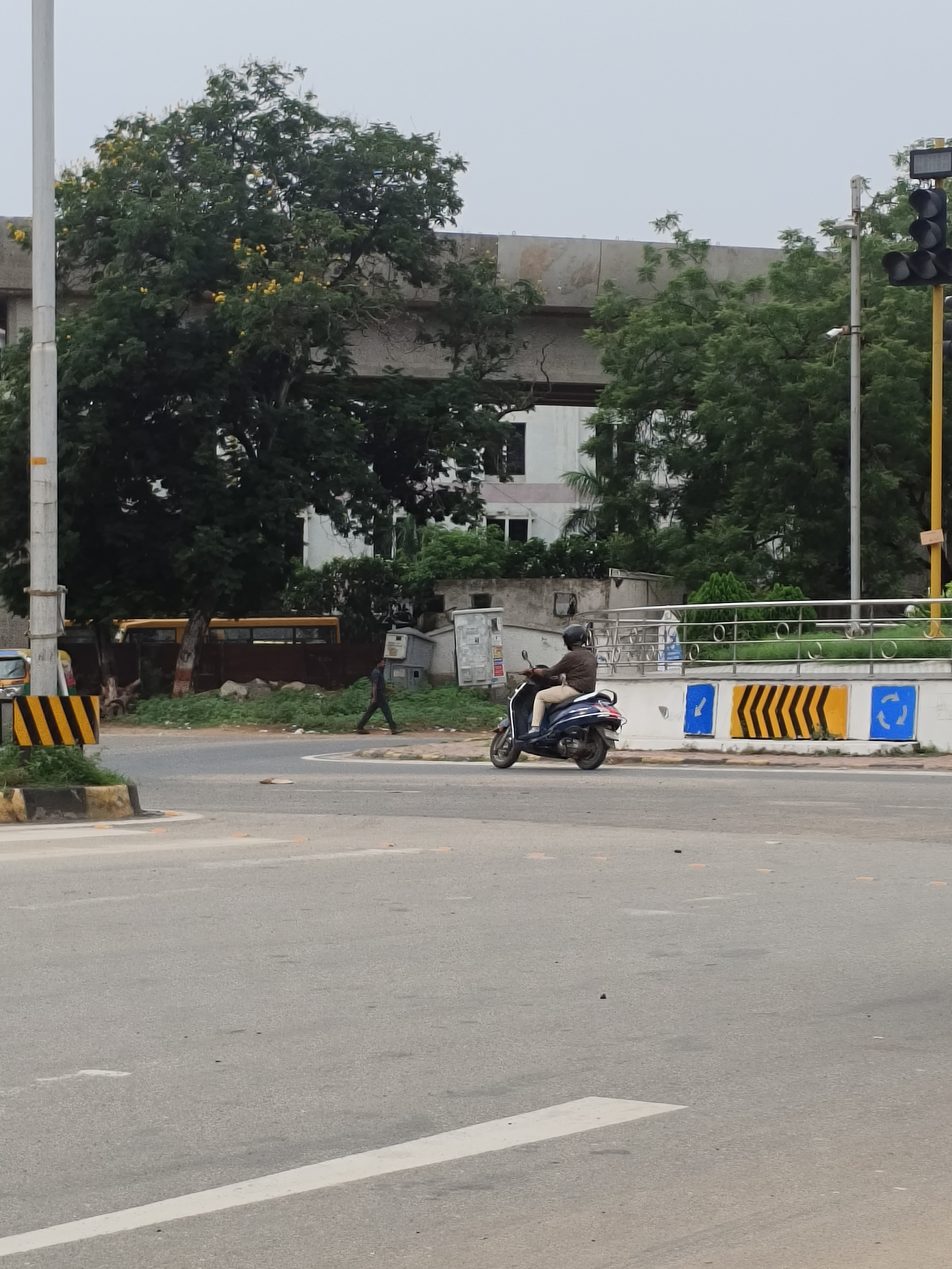BikeWithRider: (482, 619, 628, 773)
Helmet: (560, 619, 594, 653)
